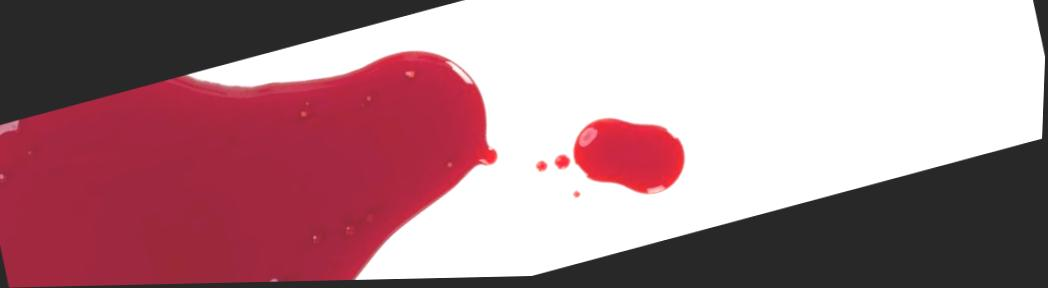Fire: (0, 51, 499, 288), (574, 119, 687, 197), (556, 156, 572, 172), (537, 162, 550, 175)
